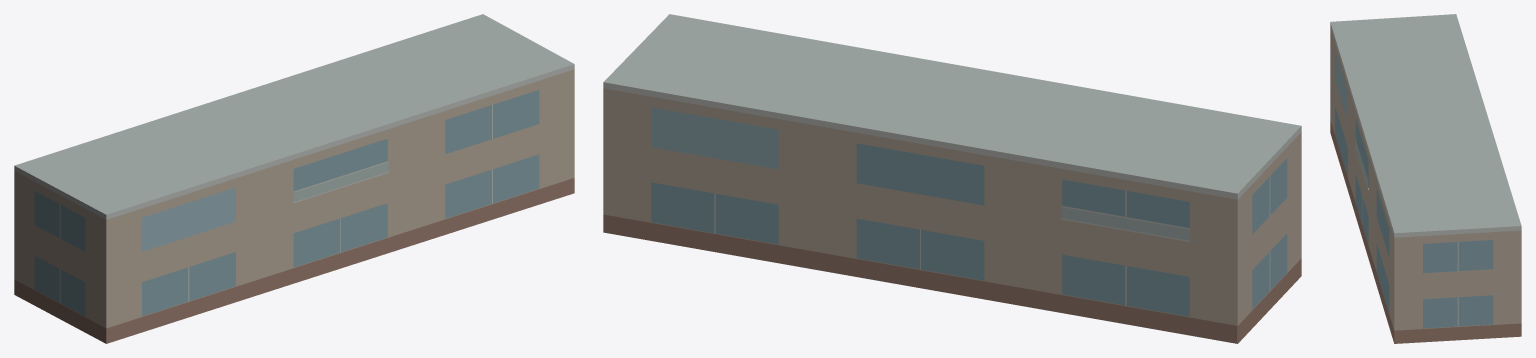
File: survey-upis-32561220.glb
The picture shows the model from 3 angles, left to right: view 1: azimuth 30°, elevation 25°; view 2: azimuth 150°, elevation 25°; view 3: azimuth 270°, elevation 25°; orthographic projection. The views are drawn at different scales.
Parts seen in each view (by area): view 1: survey-upis-32561220.tmp; view 2: survey-upis-32561220.tmp; view 3: survey-upis-32561220.tmp.
Boxes of the visible parts, box(x1,y1,x2,y2) form: survey-upis-32561220.tmp: box(14, 14, 574, 343); survey-upis-32561220.tmp: box(603, 14, 1301, 343); survey-upis-32561220.tmp: box(1330, 14, 1521, 343).
Size of the model in its own units: 25.95 by 6.1 by 9.57.
